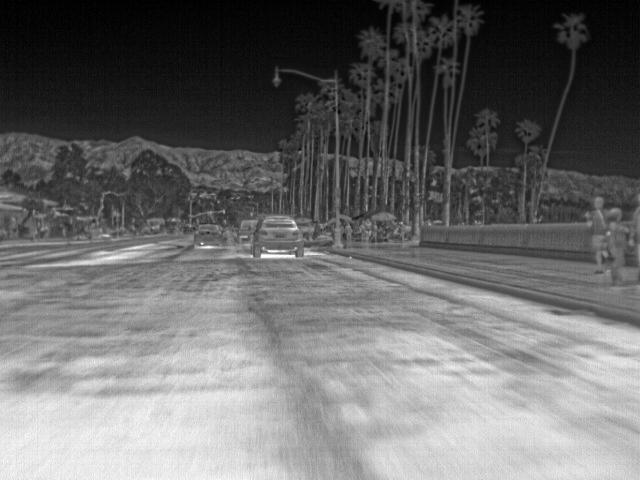car: (253, 212, 305, 258), (194, 223, 228, 248), (238, 220, 257, 246), (142, 216, 164, 236)
person: (583, 195, 610, 272), (604, 205, 625, 283), (626, 204, 639, 262)
